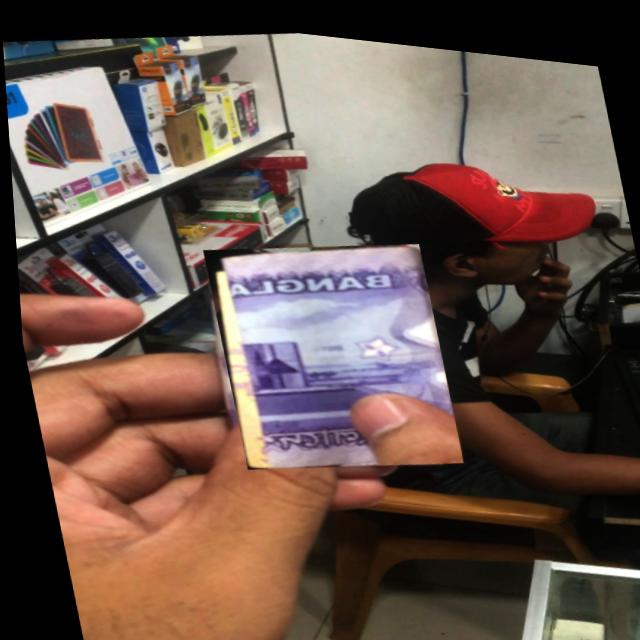Taka: (198, 215, 459, 483)
